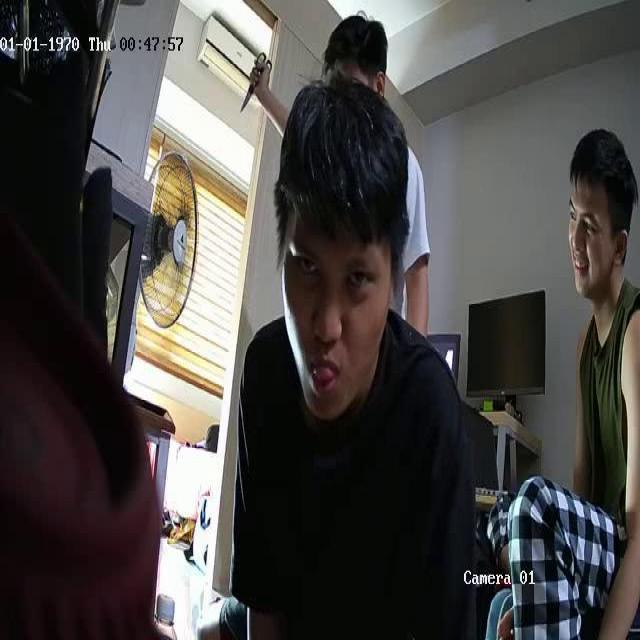scissor: (243, 52, 274, 108)
